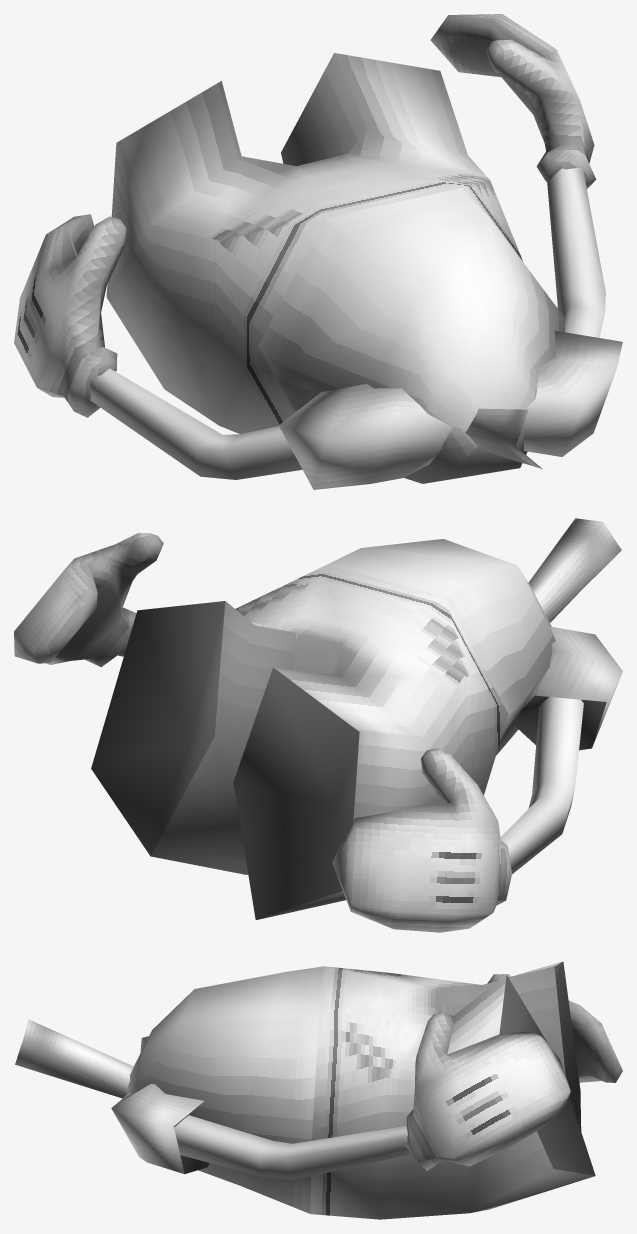
File: torso_ms.glb
3 renders of one model, top to bottom at view 1: azimuth 30°, elevation 25°; view 2: azimuth 150°, elevation 25°; view 3: azimuth 270°, elevation 25°, orthographic. The views are drawn at different scales.
Parts seen in each view (by area): view 1: torso-bot, torso-top, hands, sleeves, arms, neck; view 2: torso-bot, hands, torso-top, arms, sleeves, neck; view 3: torso-bot, torso-top, hands, arms, sleeves, neck.
Part boxes in pixels (x1,y1,x2,y2): torso-bot: (106,53,522,433); torso-top: (258,187,565,483); hands: (14,14,596,417); sleeves: (279,330,622,489); arms: (89,168,605,479); neck: (465,408,542,468); torso-bot: (91,565,508,919); hands: (14,533,511,932); torso-top: (326,539,555,755); arms: (118,649,583,874); sleeves: (513,626,622,750); neck: (528,518,621,622); torso-bot: (310,961,595,1219); torso-top: (127,966,324,1213); hands: (405,974,622,1170); arms: (174,1115,411,1180); sleeves: (111,1036,209,1174); neck: (15,1019,133,1098).
Bounding box in the file's own units: 2.28 × 1.38 × 2.91.
6 materials, 6 textured.
